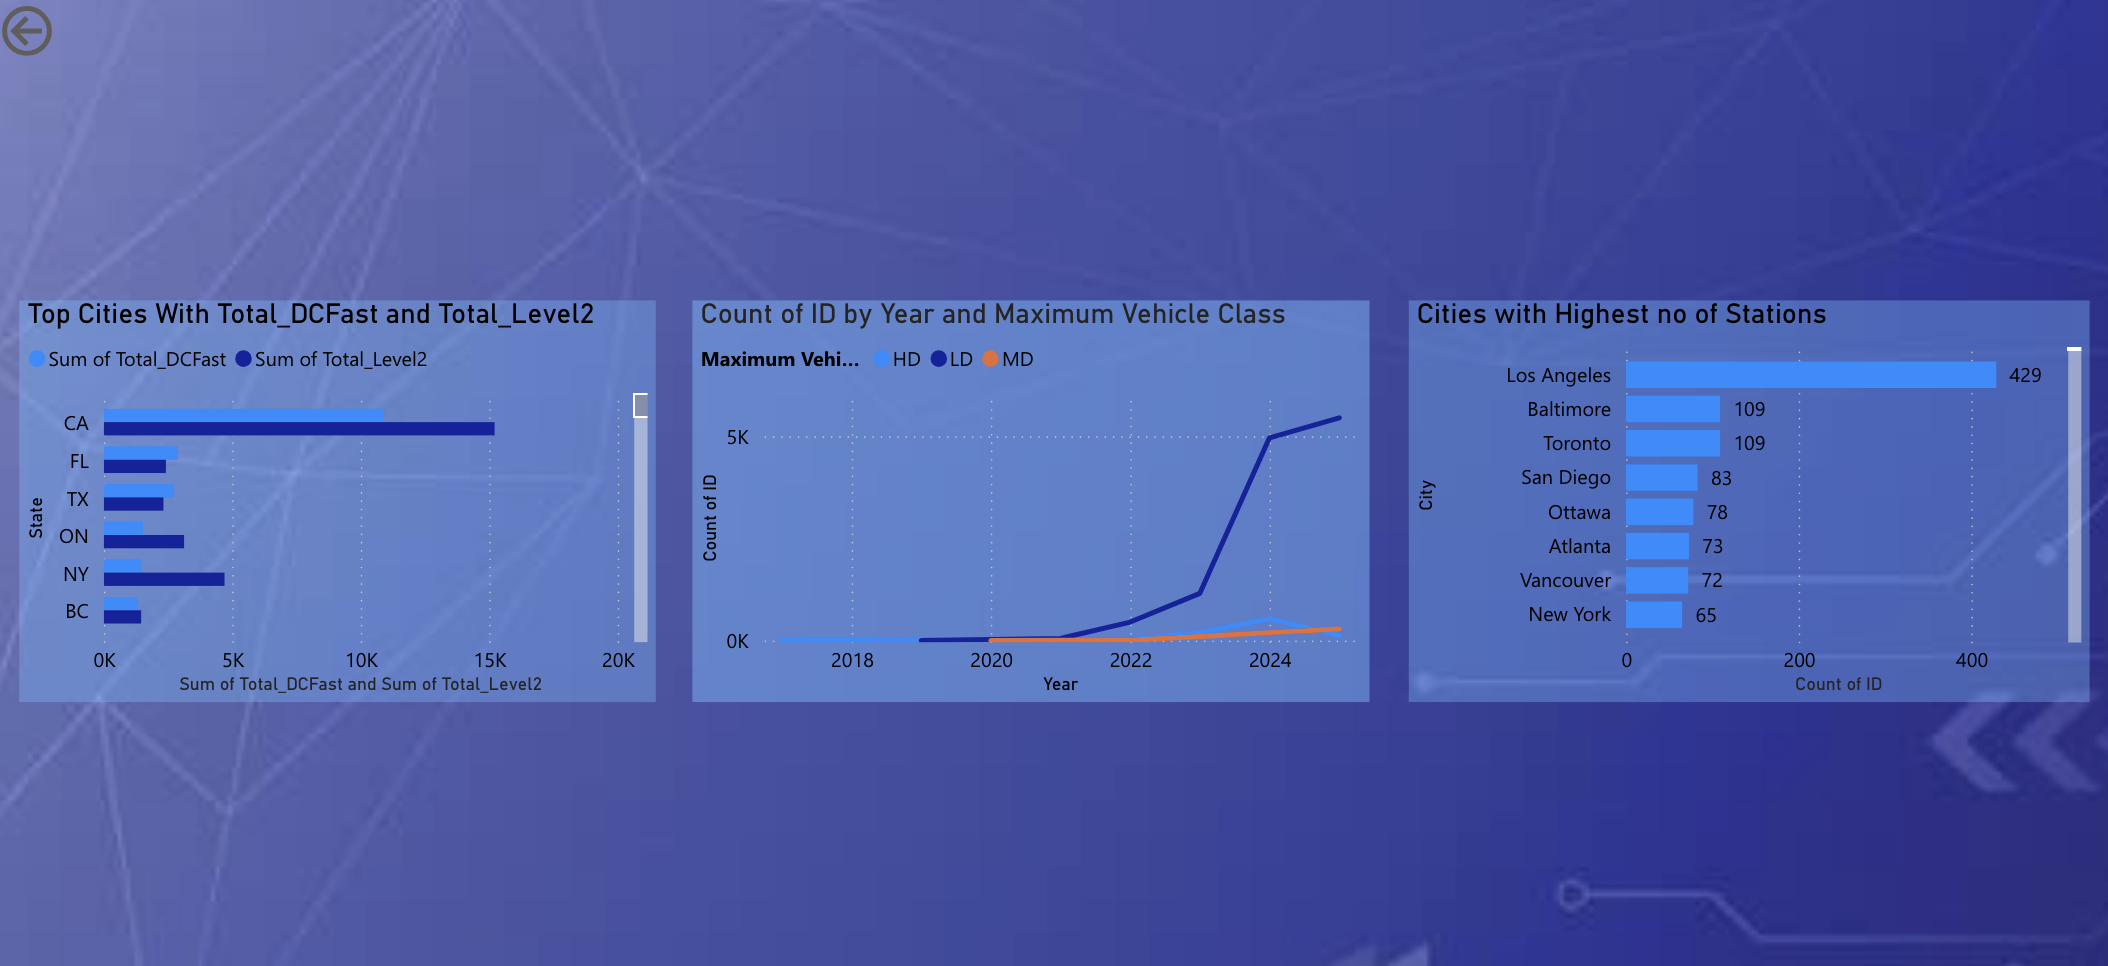

Layout of this report page (visuals, bound fields, positions):
{"tool":"powerbi","page":{"name":"Page 1","canvas":[1280,720],"ordinal":1},"visuals":[{"type":"clusteredBarChart","title":"Top Cities With Total_DCFast and Total_Level2","fields":{"Category":["State_Level_Summary.State"],"Y":["Sum(State_Level_Summary.Total_DCFast)","Sum(State_Level_Summary.Total_Level2)"]},"box":[15.3,182.4,383.9,242.3],"z":0},{"type":"actionButton","box":[0,0,100,40],"z":1000},{"type":"clusteredBarChart","title":"Cities with Highest no of Stations","fields":{"Category":["alt_fuel_stations (Nov 25 2025).City"],"Y":["CountNonNull(alt_fuel_stations (Nov 25 2025).ID)"]},"box":[853.2,182.4,410.7,242.3],"z":2000},{"type":"lineChart","fields":{"Category":["alt_fuel_stations (Nov 25 2025).Date Last Confirmed.Variation.Date Hierarchy.Year"],"Y":["CountNonNull(alt_fuel_stations (Nov 25 2025).ID)"],"Series":["alt_fuel_stations (Nov 25 2025).Maximum Vehicle Class"]},"box":[420.9,182.4,408.1,242.3],"z":3000}]}

Visuals, with their boxes on the page's 1280x720 design canvas (x1, y1, x2, y2). These are canvas units, not pixel positions in the 2108x966 screenshot, which may show the page scaled, cropped or inside an application window:
"Top Cities With Total_DCFast and Total_Level2" clusteredBarChart: [15, 182, 399, 425]
actionButton: [0, 0, 100, 40]
"Cities with Highest no of Stations" clusteredBarChart: [853, 182, 1264, 425]
lineChart - alt_fuel_stations (Nov 25 2025).Date Last Confirmed.Variation.Date Hierarchy.Year x CountNonNull(alt_fuel_stations (Nov 25 2025).ID): [421, 182, 829, 425]
